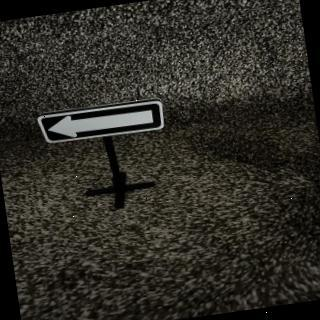sign_oneway_left: (37, 98, 167, 148)
